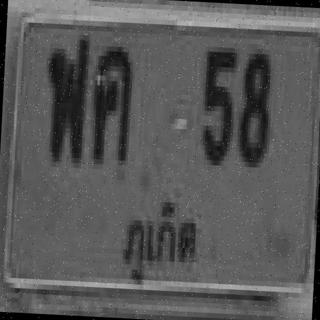A04: (88, 38, 137, 190)
A31: (40, 30, 96, 179)
N05: (192, 25, 245, 195)
N09: (232, 37, 280, 192)
P48: (105, 193, 212, 290)
